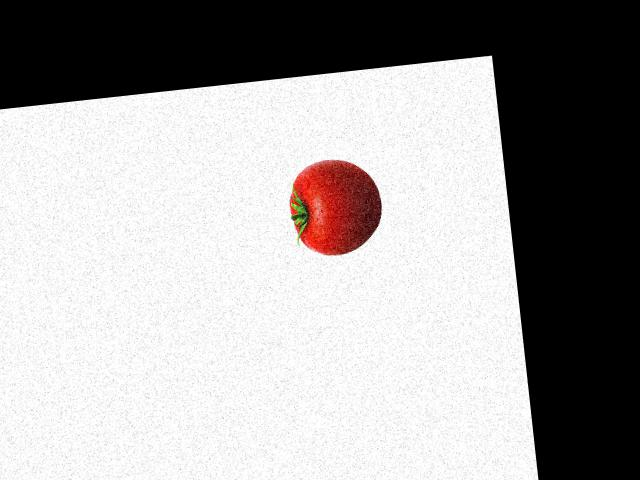tomato: (286, 165, 386, 259)
